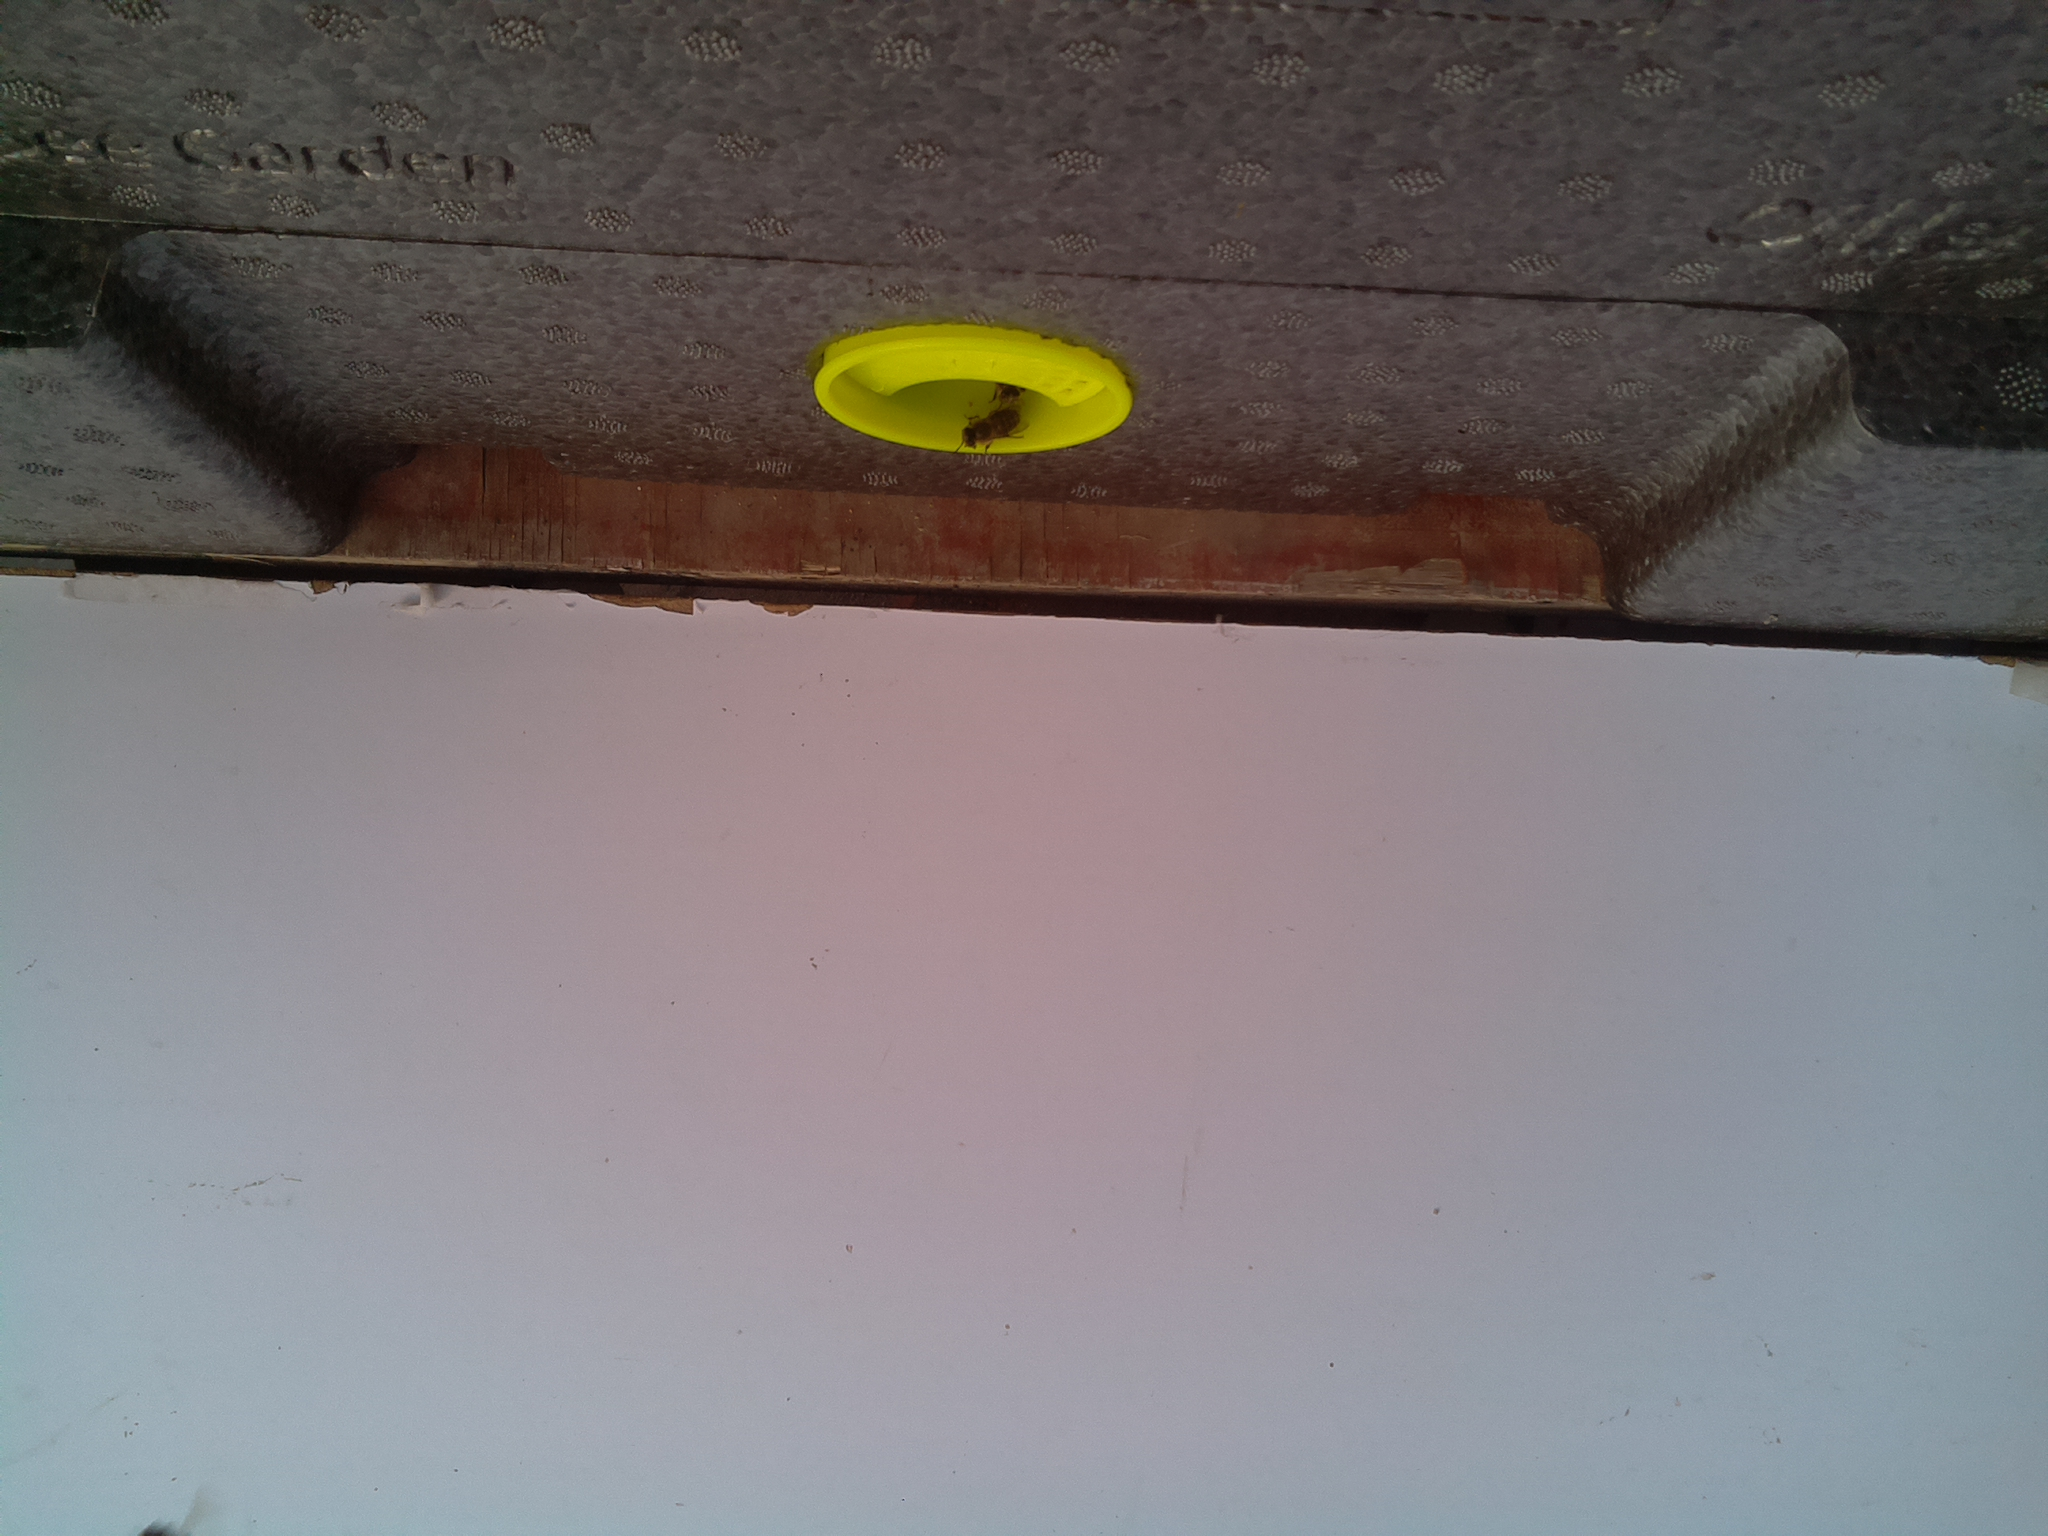bee: (959, 396, 1018, 457)
